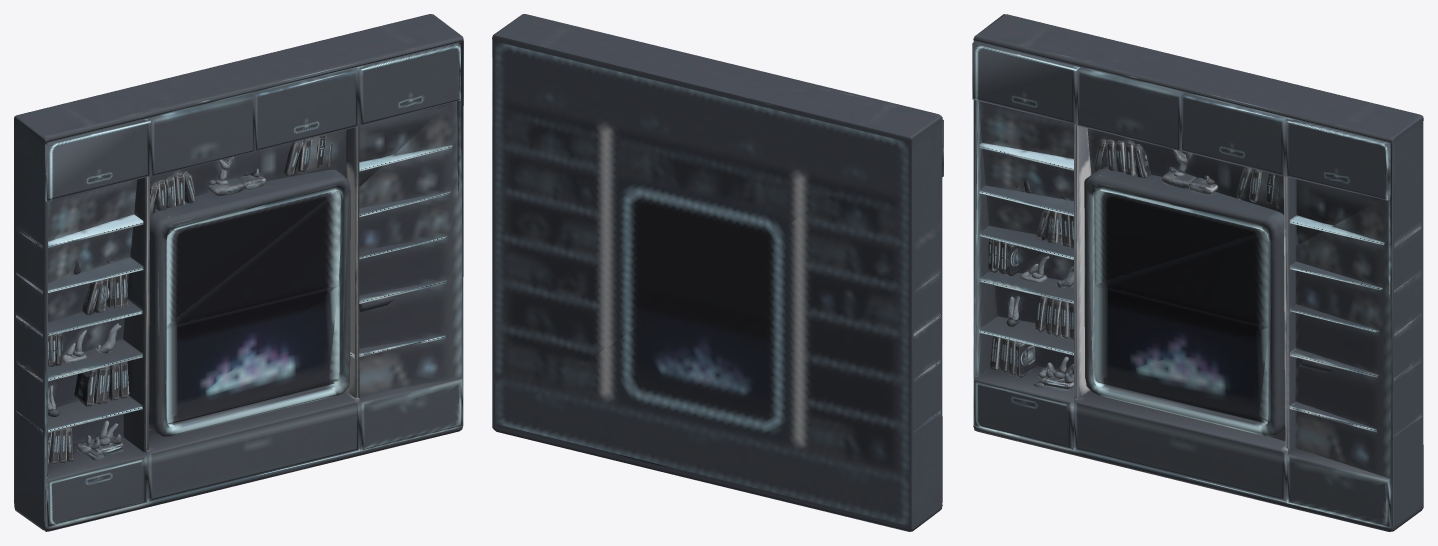
Rendered from krb.glb.
3 renders of one model, left to right at view 1: azimuth 30°, elevation 25°; view 2: azimuth 150°, elevation 25°; view 3: azimuth 330°, elevation 25°, orthographic.
Bounding box in the file's own units: 1 × 0.9045 × 0.1385.
1 material, 1 textured.
